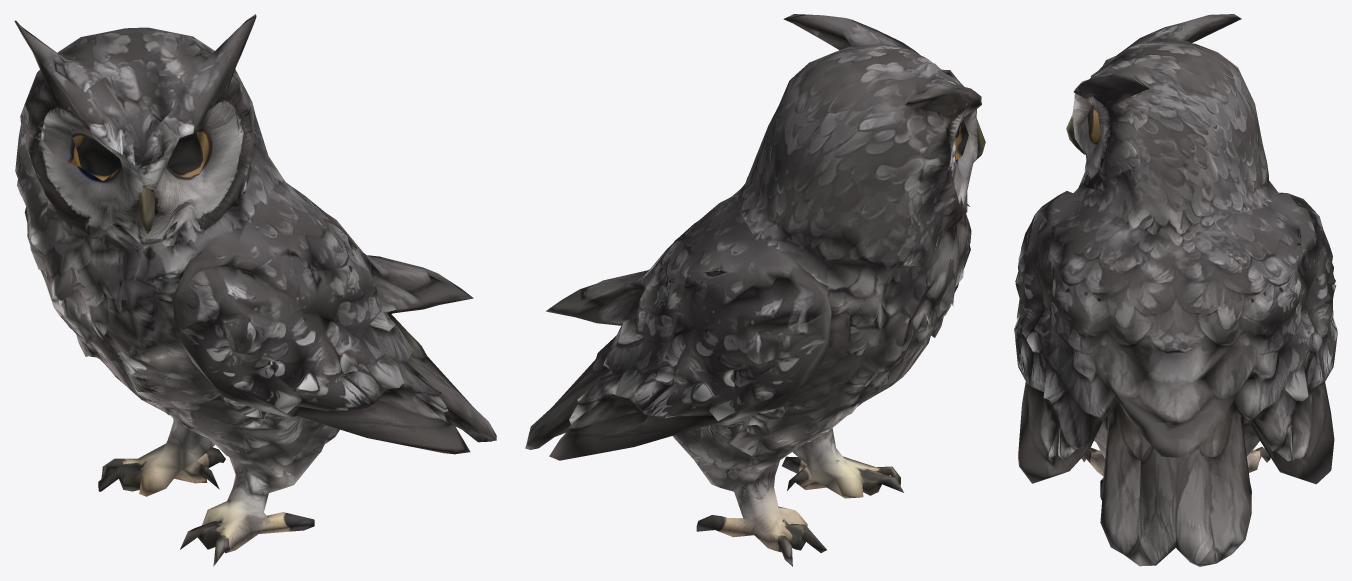
The model's file is owl.glb.
3 views of the same model, side by side, from view 1: azimuth 30°, elevation 25°; view 2: azimuth 150°, elevation 25°; view 3: azimuth 270°, elevation 25° (orthographic). The views are drawn at different scales.
Parts seen in each view (by area): view 1: owl; view 2: owl; view 3: owl.
Part boxes in pixels (box(x1,y1,x2,y2)): owl: box(14, 14, 496, 566); owl: box(525, 14, 985, 566); owl: box(1014, 14, 1337, 566).
Bounding box in the file's own units: 0.8807 × 0.976 × 0.7003.
Materials: 1 (1 with a texture image).
